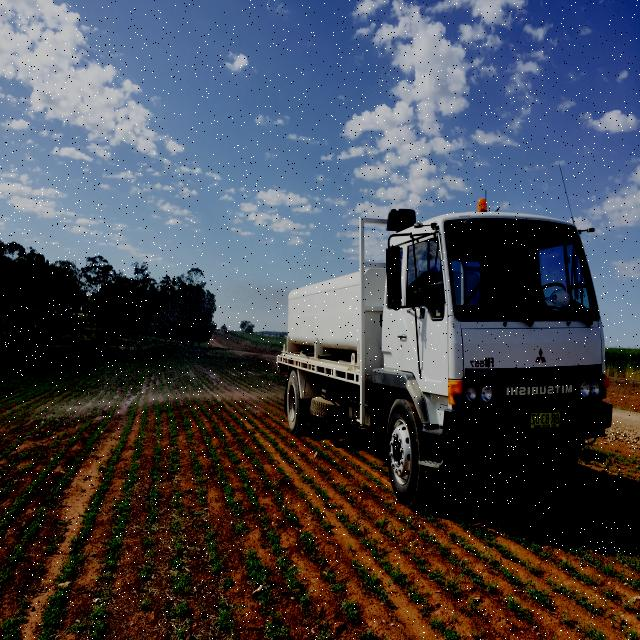truck: (274, 207, 614, 505)
